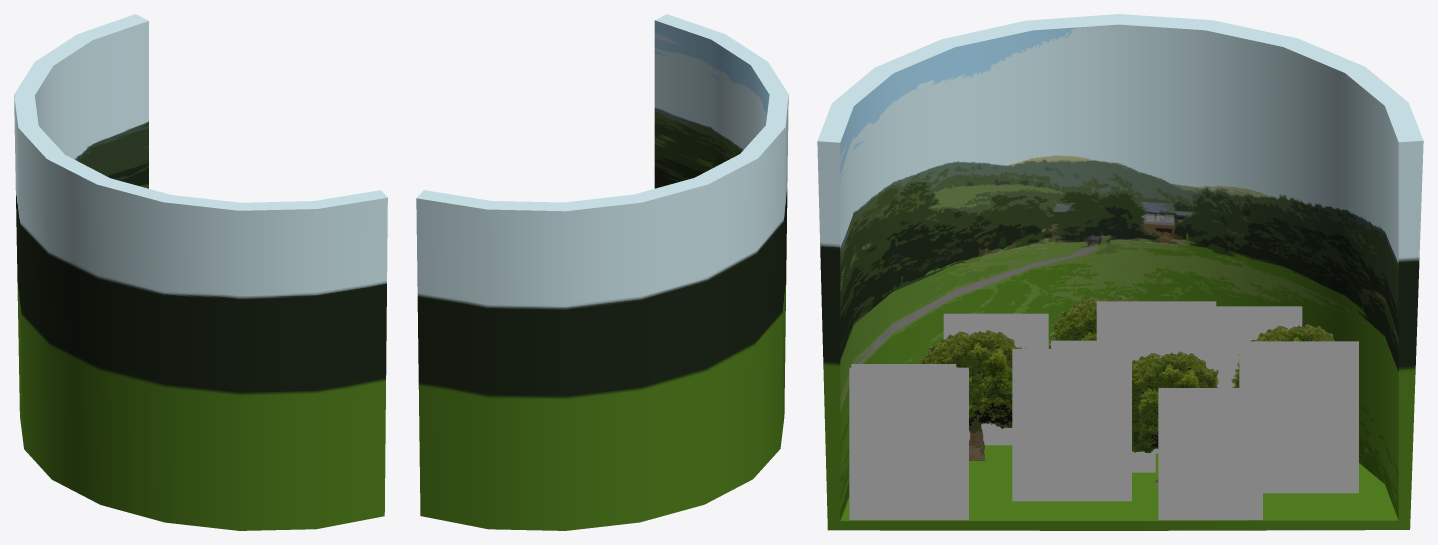
File: park.fbx
3 views of the same model, side by side, from view 1: azimuth 30°, elevation 25°; view 2: azimuth 150°, elevation 25°; view 3: azimuth 270°, elevation 25° (orthographic). The views are drawn at different scales.
Parts seen in each view (by area): view 1: park_background; view 2: park_background; view 3: park_background, christmasTree001, christmasTree004, christmasTree003, miniTree001, christmasTree002, oakTree001, oakTree003, miniTree003, miniTree002, oakTree004, miniTree004 (+1 smaller).
Boxes of the visible parts, left/top/right/bottom form: park_background: left=14, top=14, right=387, bottom=530; park_background: left=416, top=14, right=788, bottom=530; park_background: left=817, top=14, right=1423, bottom=530; christmasTree001: left=849, top=367, right=968, bottom=519; christmasTree004: left=1012, top=349, right=1131, bottom=501; christmasTree003: left=1239, top=341, right=1358, bottom=493; miniTree001: left=1158, top=388, right=1262, bottom=519; christmasTree002: left=1096, top=301, right=1216, bottom=453; oakTree001: left=919, top=330, right=1026, bottom=460; oakTree003: left=1132, top=351, right=1218, bottom=482; miniTree003: left=1216, top=306, right=1302, bottom=387; miniTree002: left=943, top=313, right=1048, bottom=445; oakTree004: left=1048, top=295, right=1137, bottom=348; miniTree004: left=1051, top=340, right=1155, bottom=472.
Bounding box in the file's own units: 1060 × 1492 × 2108.
